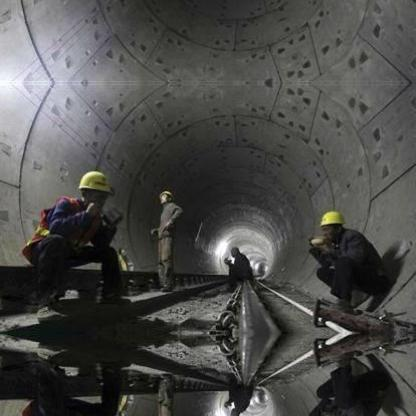helmet: (75, 169, 118, 196), (315, 211, 345, 228), (156, 189, 178, 199)
